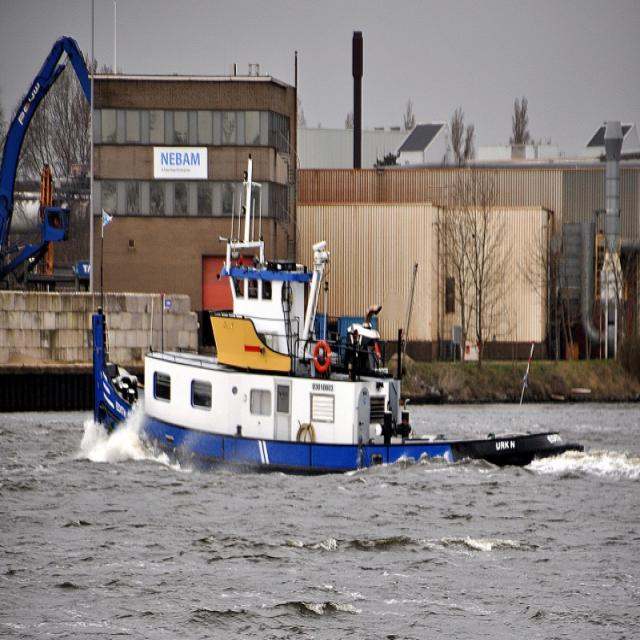tugboat: (91, 202, 590, 500)
